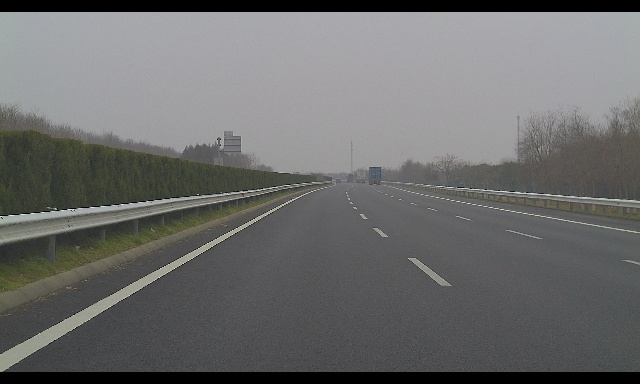truck: (367, 167, 381, 185), (355, 171, 366, 183), (346, 173, 354, 183)
